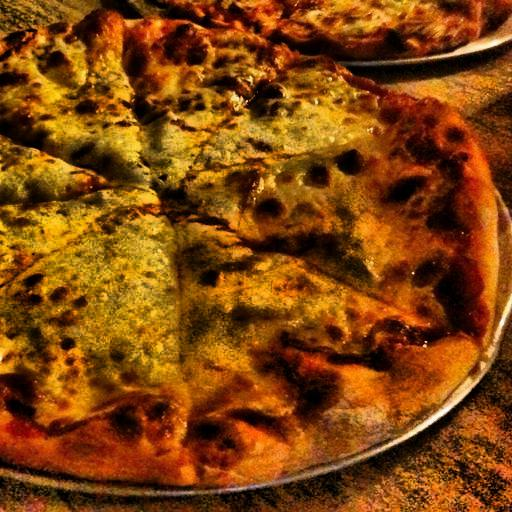pizza: (2, 43, 489, 500)
